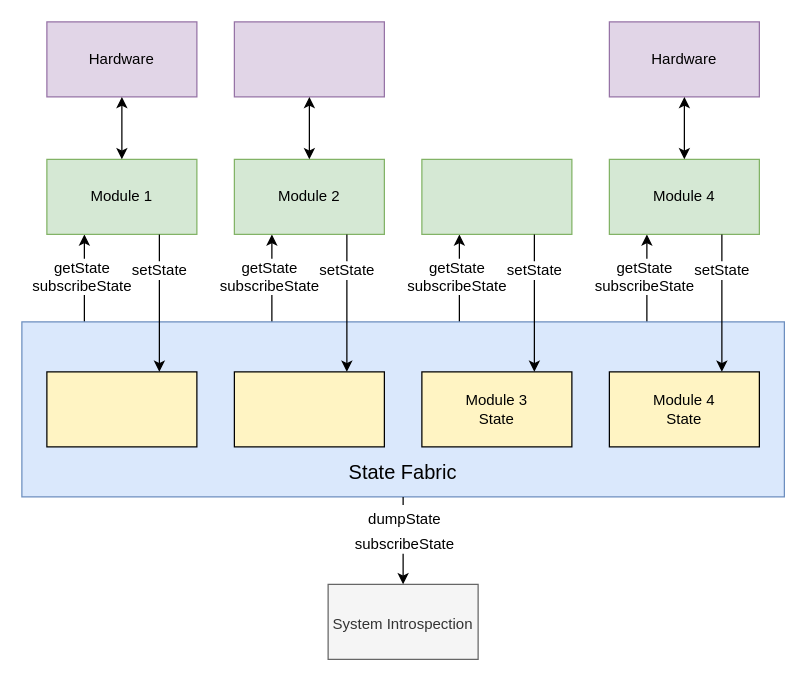
Image size: 806x681. Some labels were removed from this diagram. Each missing label, with the centre of its shape:
Module 1 State: (x=121, y=409)
Module 2 State: (x=308, y=409)
Module 3 (Compute): (x=496, y=196)
Server: (x=308, y=59)
